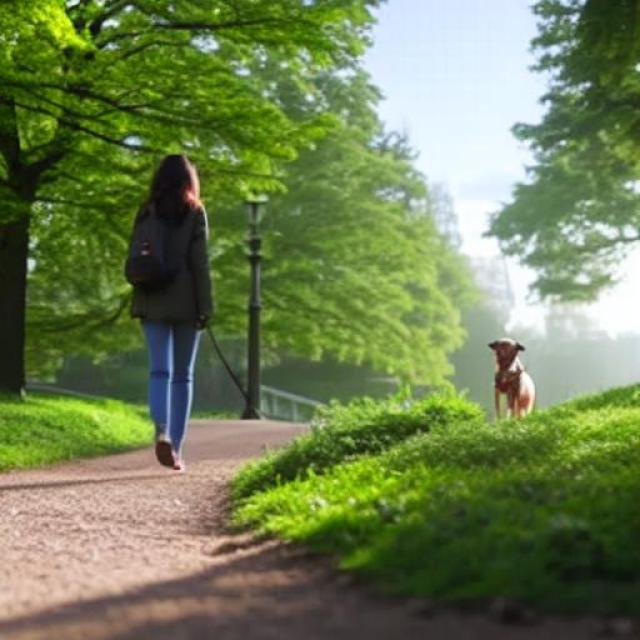Unleashed_Dog: (143, 337, 537, 420)
